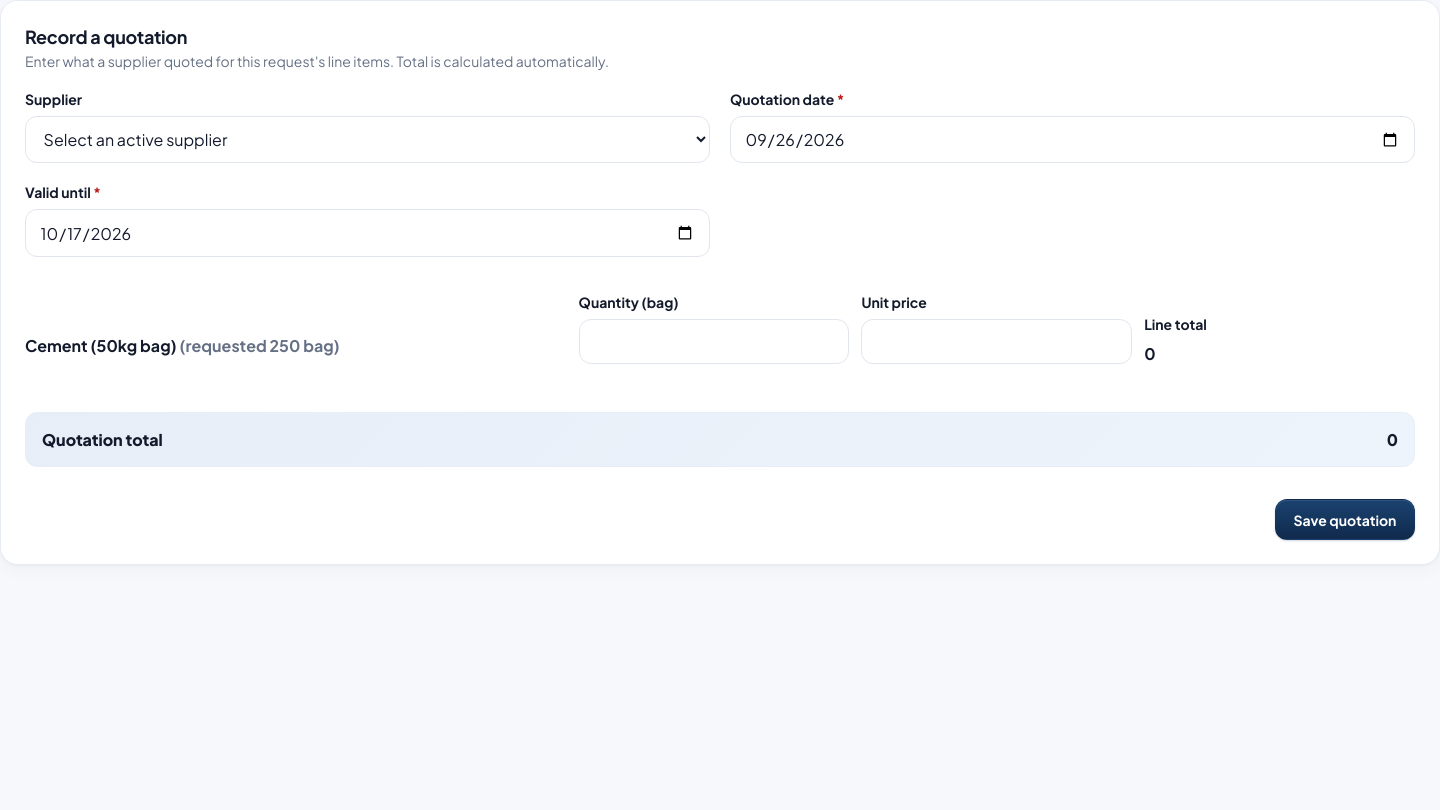
QuotationEntryForm validation › requires at least one line item with a quantity and price
The width and height of the screenshot is (1440, 810).
Select "Supplier A Building Materials" in the dropdown labelled "Supplier": (368, 140) [25, 116, 710, 163]
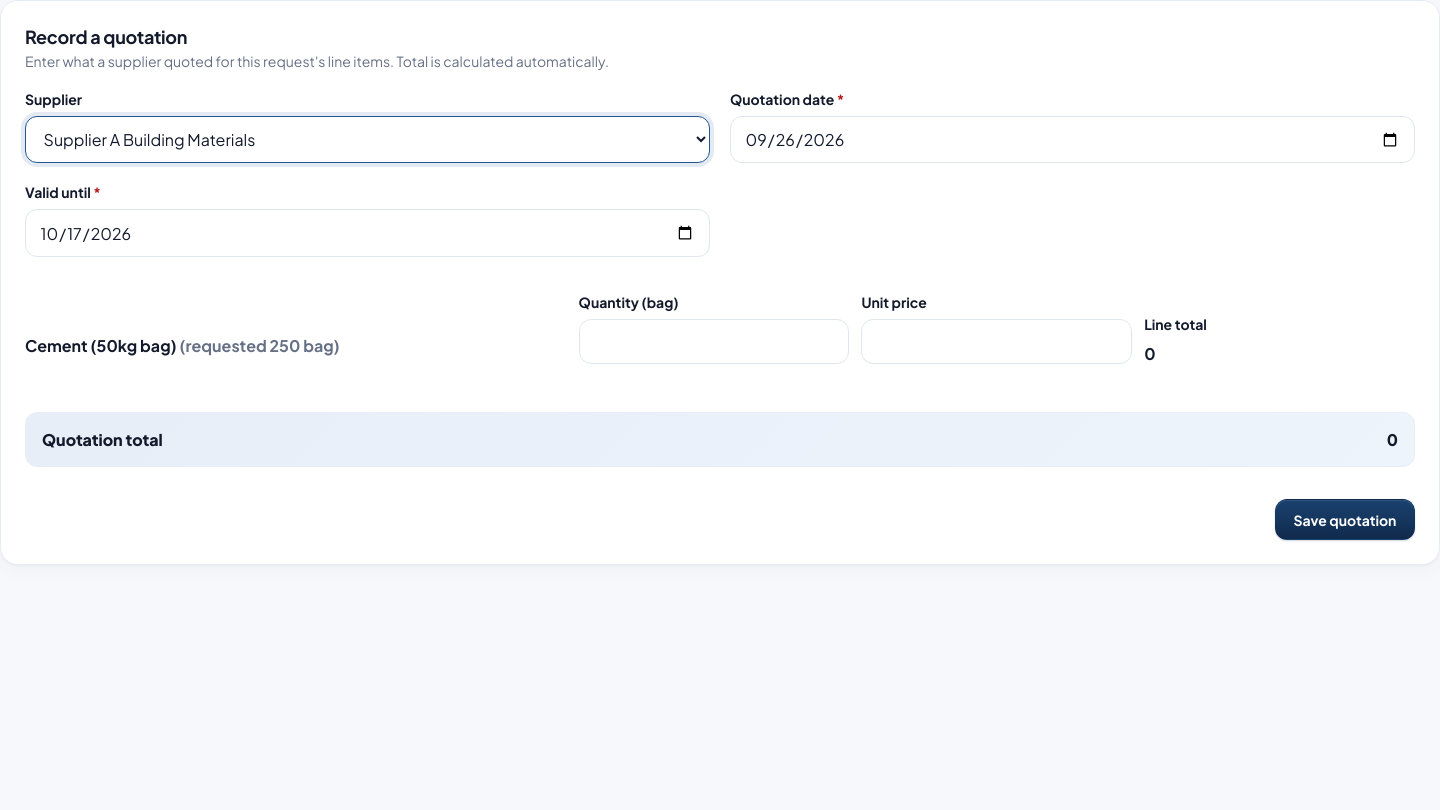
Click the button "Save quotation": click(1345, 520) [1275, 499, 1415, 540]
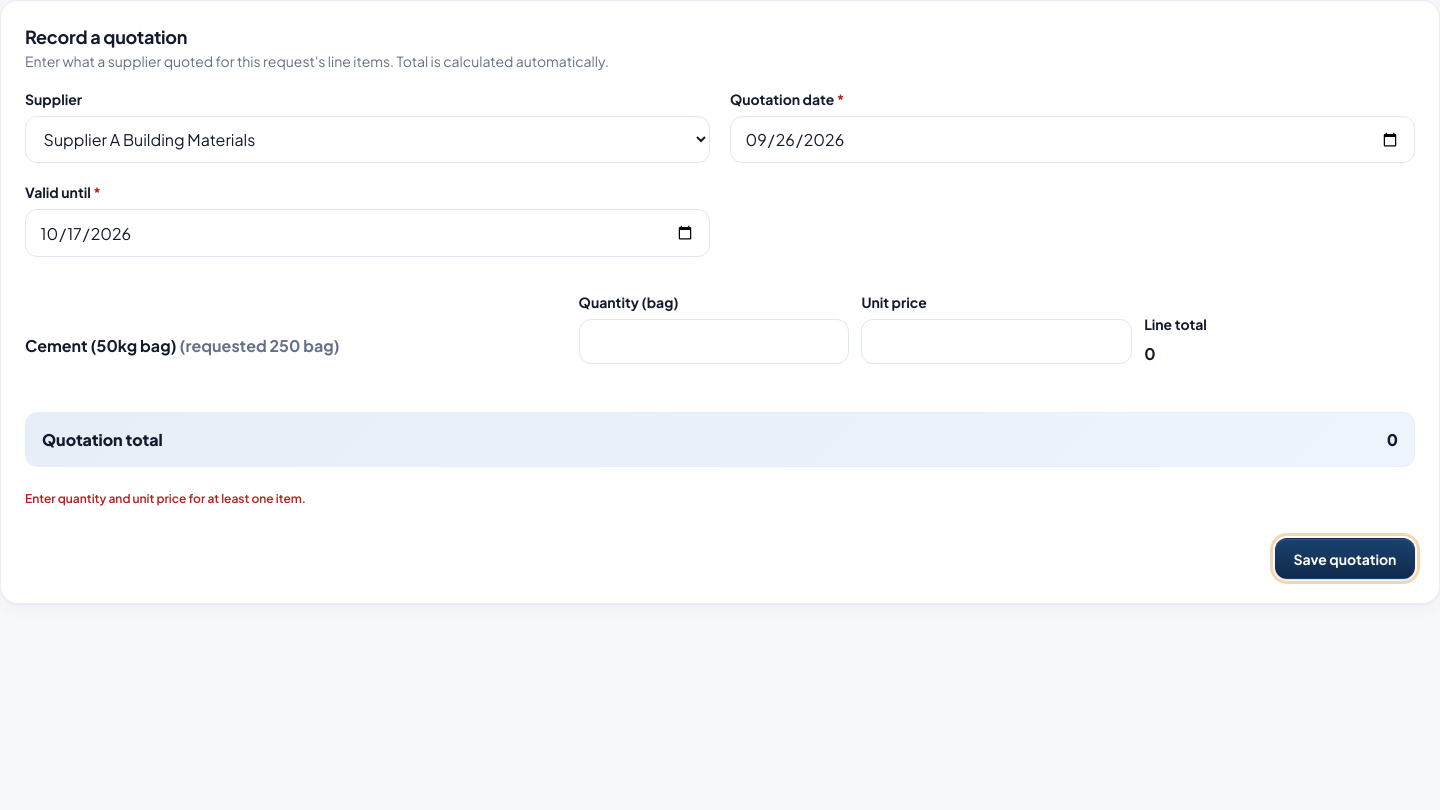
Result: the text "Enter quantity and unit price for at least one item." is shown at [25, 491, 306, 506]
